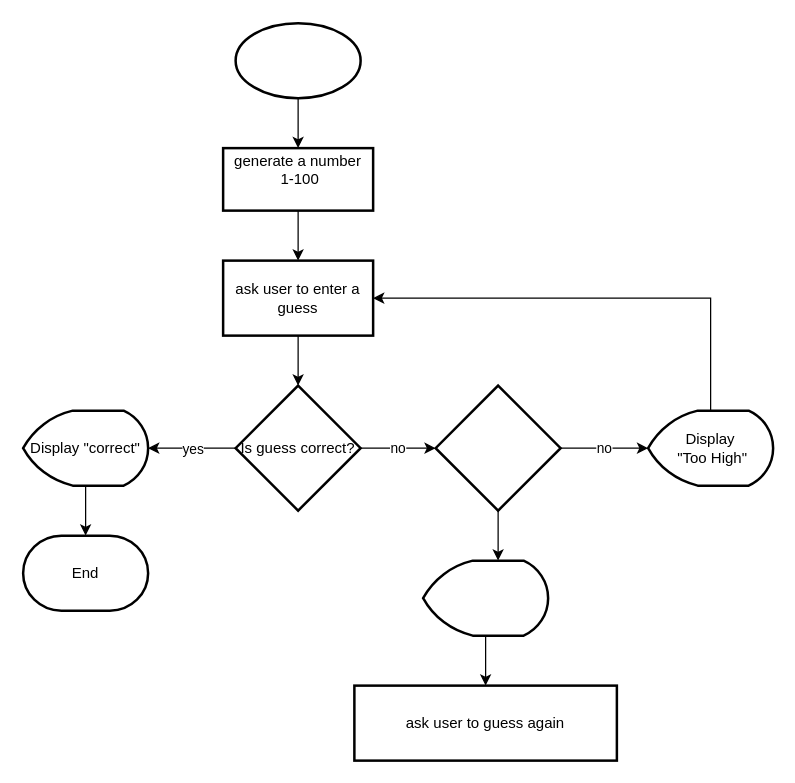
The diagram is 795 pixels wide and 783 high, and some of its shapes have lost their labels. Each missing label, with the centre of its shape:
Display "Too low": point (485, 597)
is guess too low?: point (497, 447)
start: point (297, 60)
